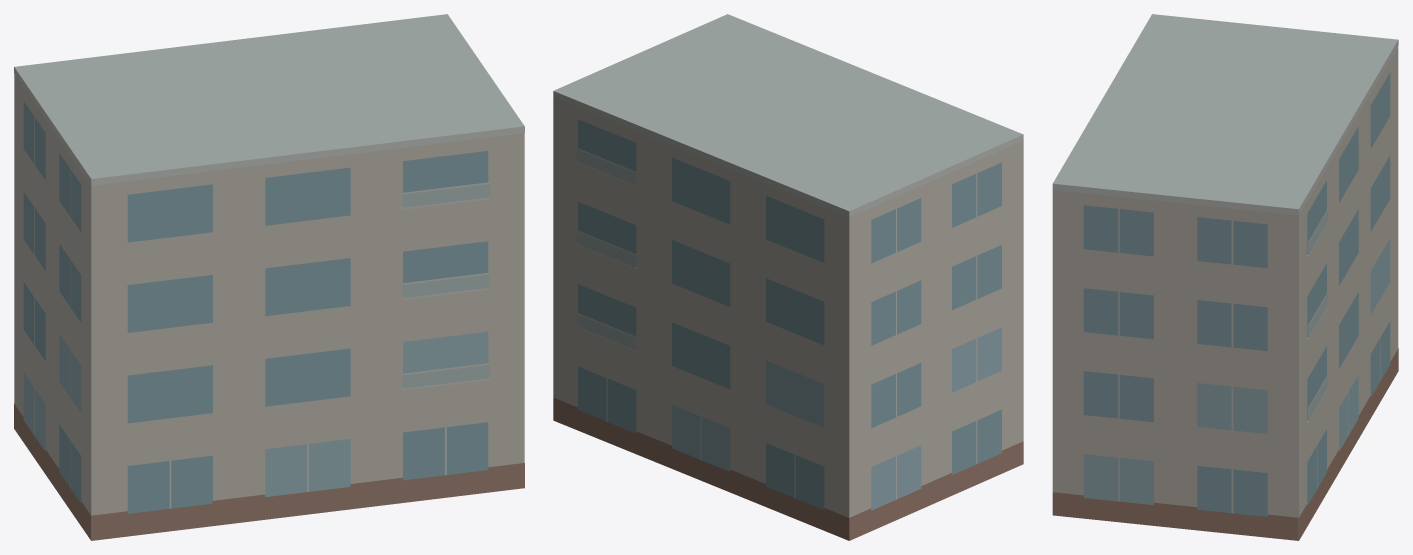
Rendered from survey-upis-32489424.glb.
The picture shows the model from 3 angles, left to right: view 1: azimuth 30°, elevation 25°; view 2: azimuth 150°, elevation 25°; view 3: azimuth 270°, elevation 25°; orthographic projection. The views are drawn at different scales.
Visible parts, largest first — view 1: survey-upis-32489424.tmp; view 2: survey-upis-32489424.tmp; view 3: survey-upis-32489424.tmp.
Part boxes in pixels (left/top/right/bottom): survey-upis-32489424.tmp: left=14, top=14, right=524, bottom=540; survey-upis-32489424.tmp: left=553, top=14, right=1023, bottom=540; survey-upis-32489424.tmp: left=1052, top=14, right=1398, bottom=540.
Size of the model in its own units: 16.55 by 13.1 by 12.39.
